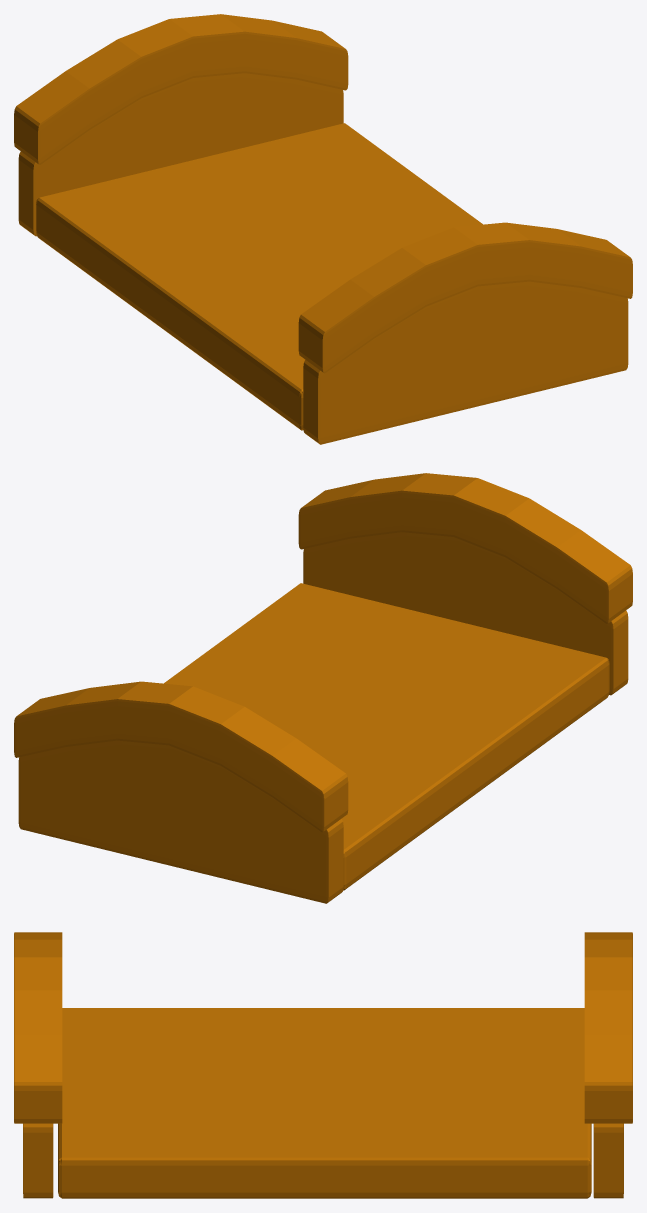
File: bed.glb
3 renders of one model, top to bottom at view 1: azimuth 30°, elevation 25°; view 2: azimuth 150°, elevation 25°; view 3: azimuth 270°, elevation 25°, orthographic.
Visible parts, largest first — view 1: Bedframe; view 2: Bedframe; view 3: Bedframe.
Part boxes in pixels (left/top/right/bottom): Bedframe: left=14, top=14, right=632, bottom=444; Bedframe: left=14, top=473, right=632, bottom=903; Bedframe: left=14, top=932, right=632, bottom=1198.
Size of the model in its own units: 0.7048 by 0.3598 by 1.21.
